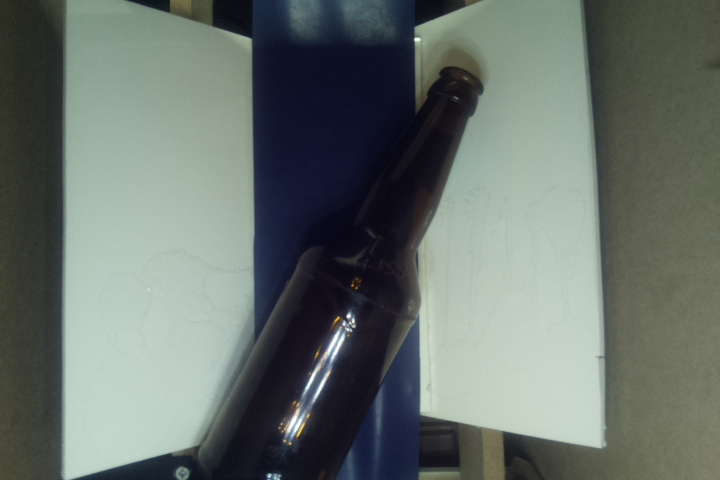makju: (192, 67, 489, 480)
